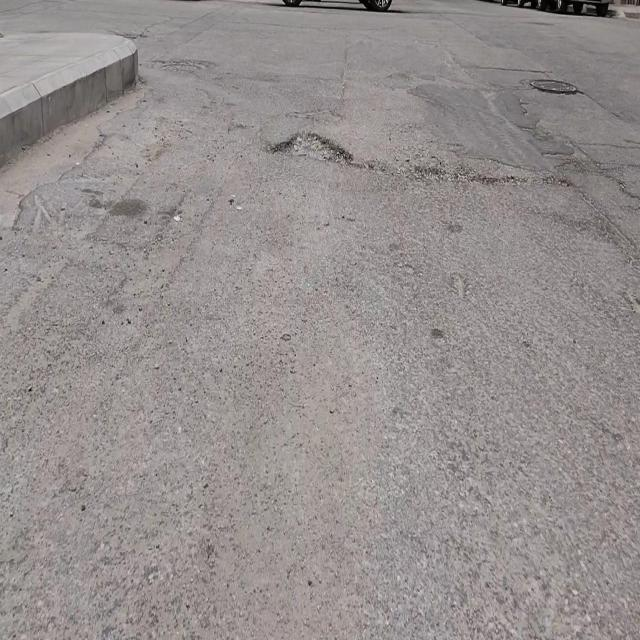Pothole: (271, 128, 353, 167)
